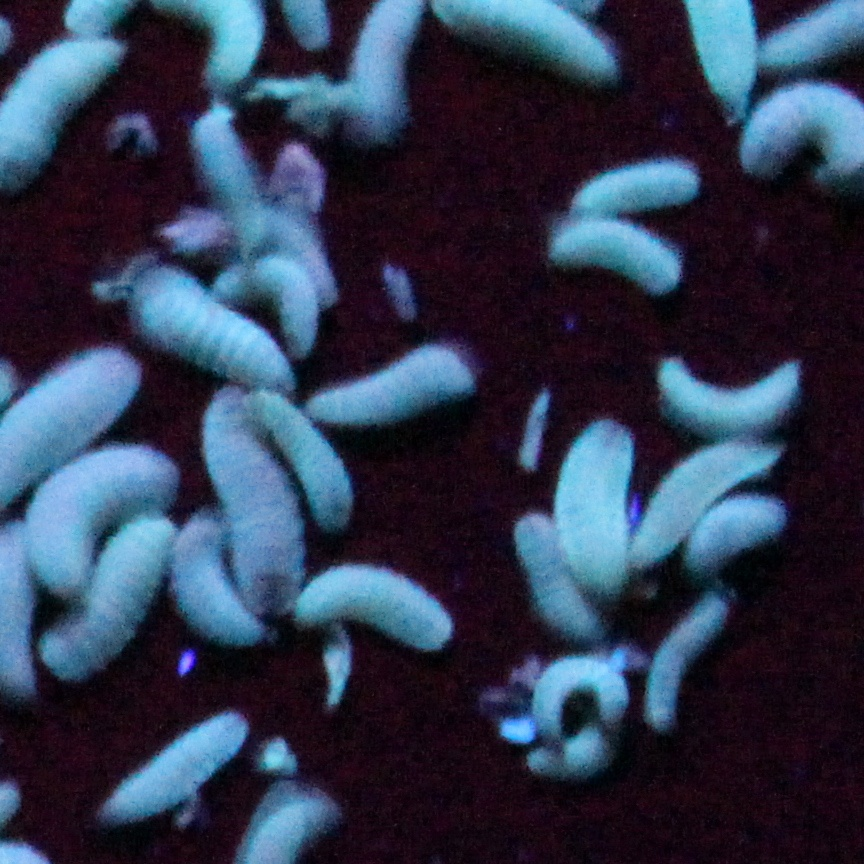larve: (39, 510, 171, 685), (24, 451, 179, 595), (202, 385, 302, 608), (630, 445, 783, 577), (122, 271, 294, 387), (102, 716, 247, 824), (296, 561, 459, 651), (553, 418, 630, 598), (255, 391, 353, 528), (308, 349, 467, 432), (171, 518, 267, 646), (506, 514, 602, 636), (653, 353, 804, 430), (192, 108, 269, 253), (647, 598, 726, 732), (210, 255, 318, 345), (545, 220, 679, 291), (536, 659, 626, 761), (683, 496, 783, 573), (571, 163, 698, 214), (534, 728, 616, 773)
